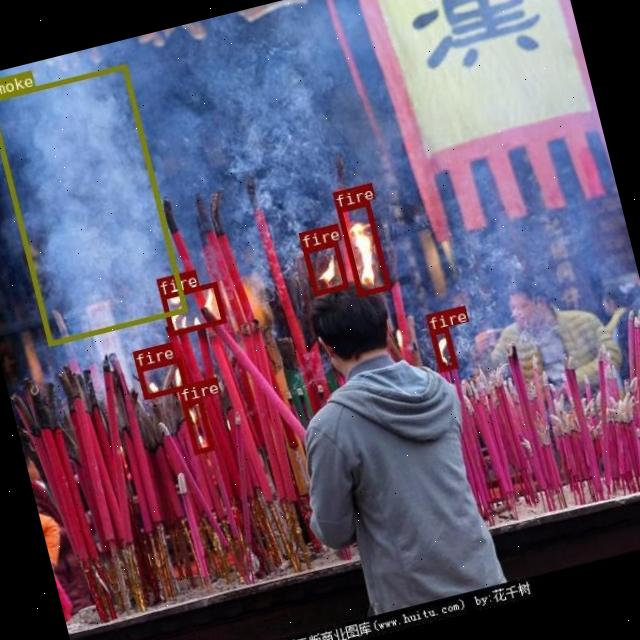fire: (336, 201, 390, 296), (160, 281, 226, 336), (302, 240, 348, 294), (136, 357, 188, 399), (181, 398, 213, 453), (429, 326, 456, 371)
smoke: (0, 62, 185, 344)
